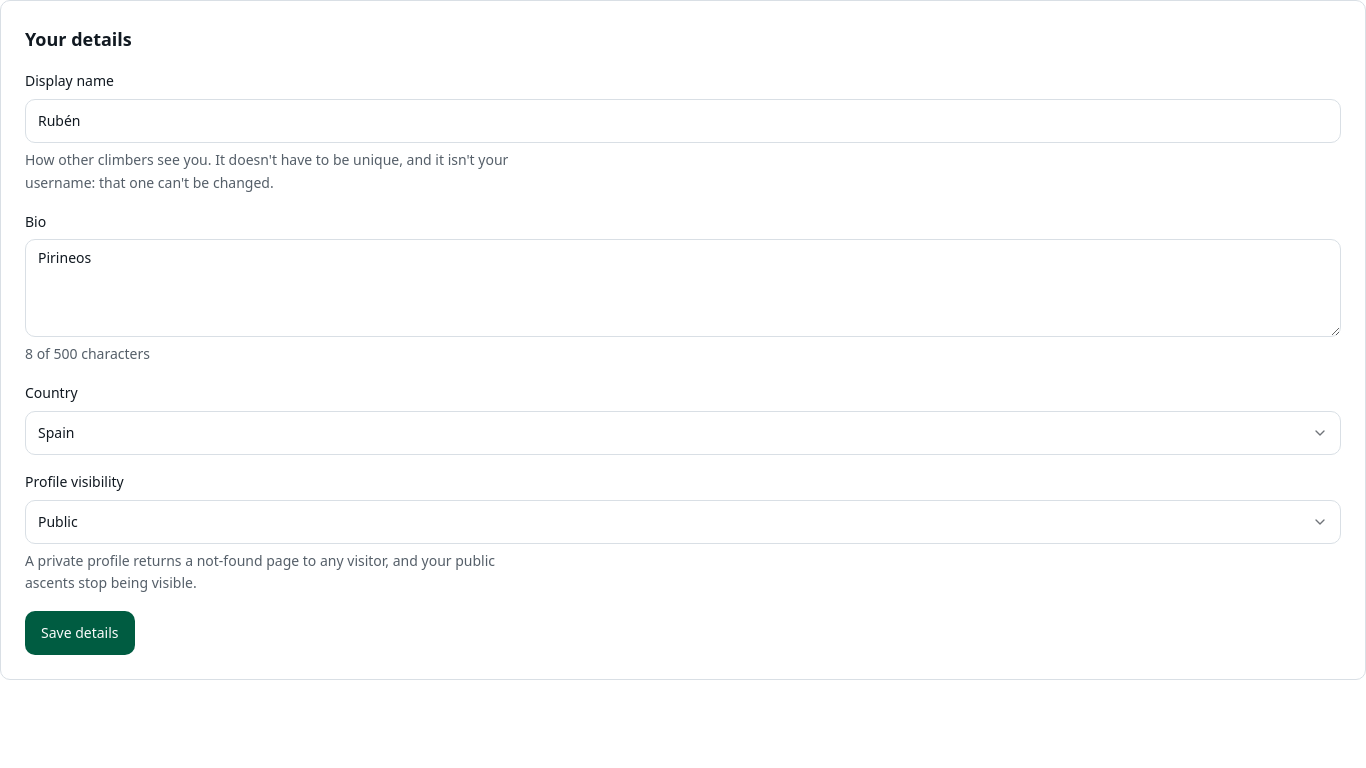
Test case: ProfileDataForm › profileDataForm_serverRejection_marksTheOffendingField
Click the button "Save details": (80, 633) [25,611,134,655]
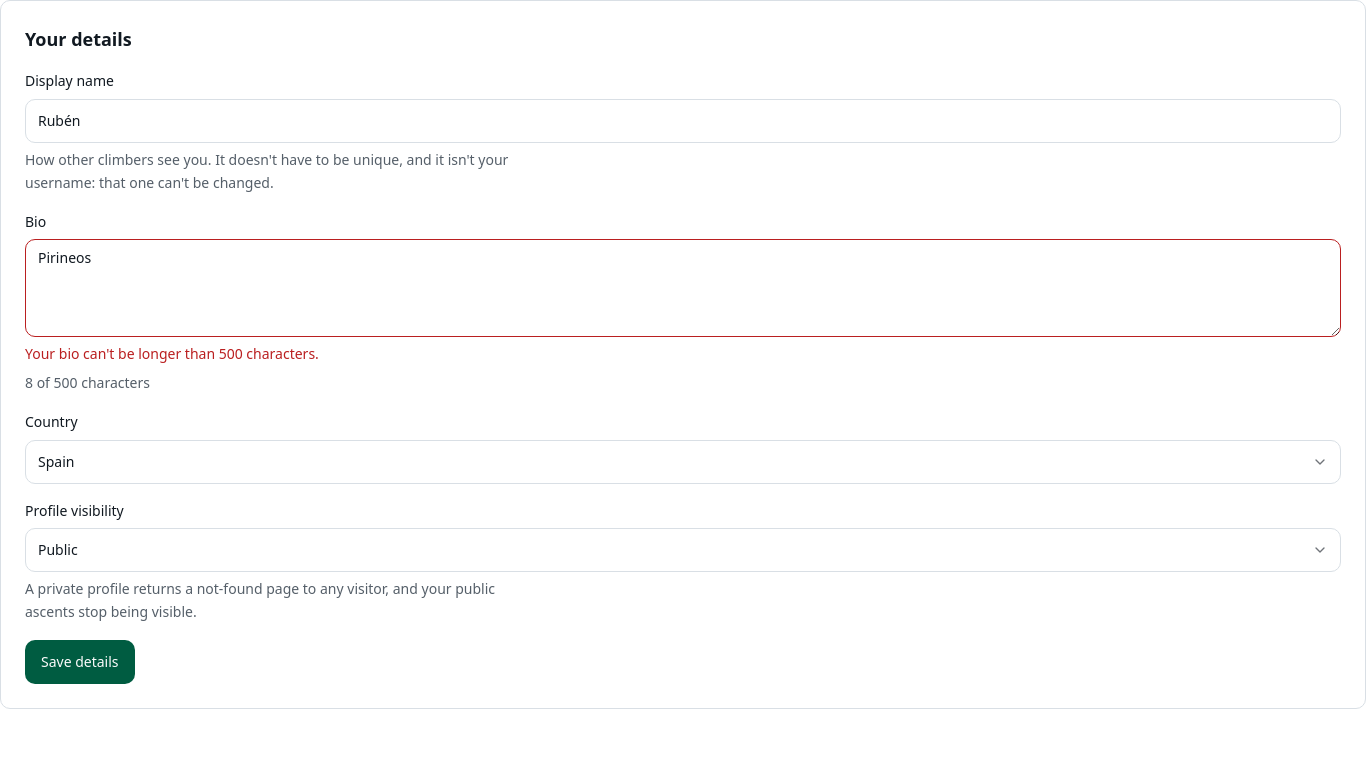
Now the text "Your bio can't be longer than 500 characters." is shown, box [25,344,319,363]
